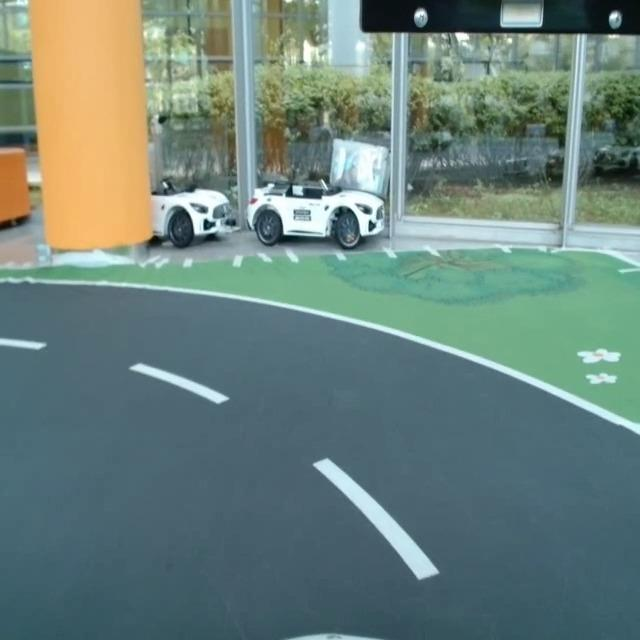traffic-light: (355, 0, 640, 39)
